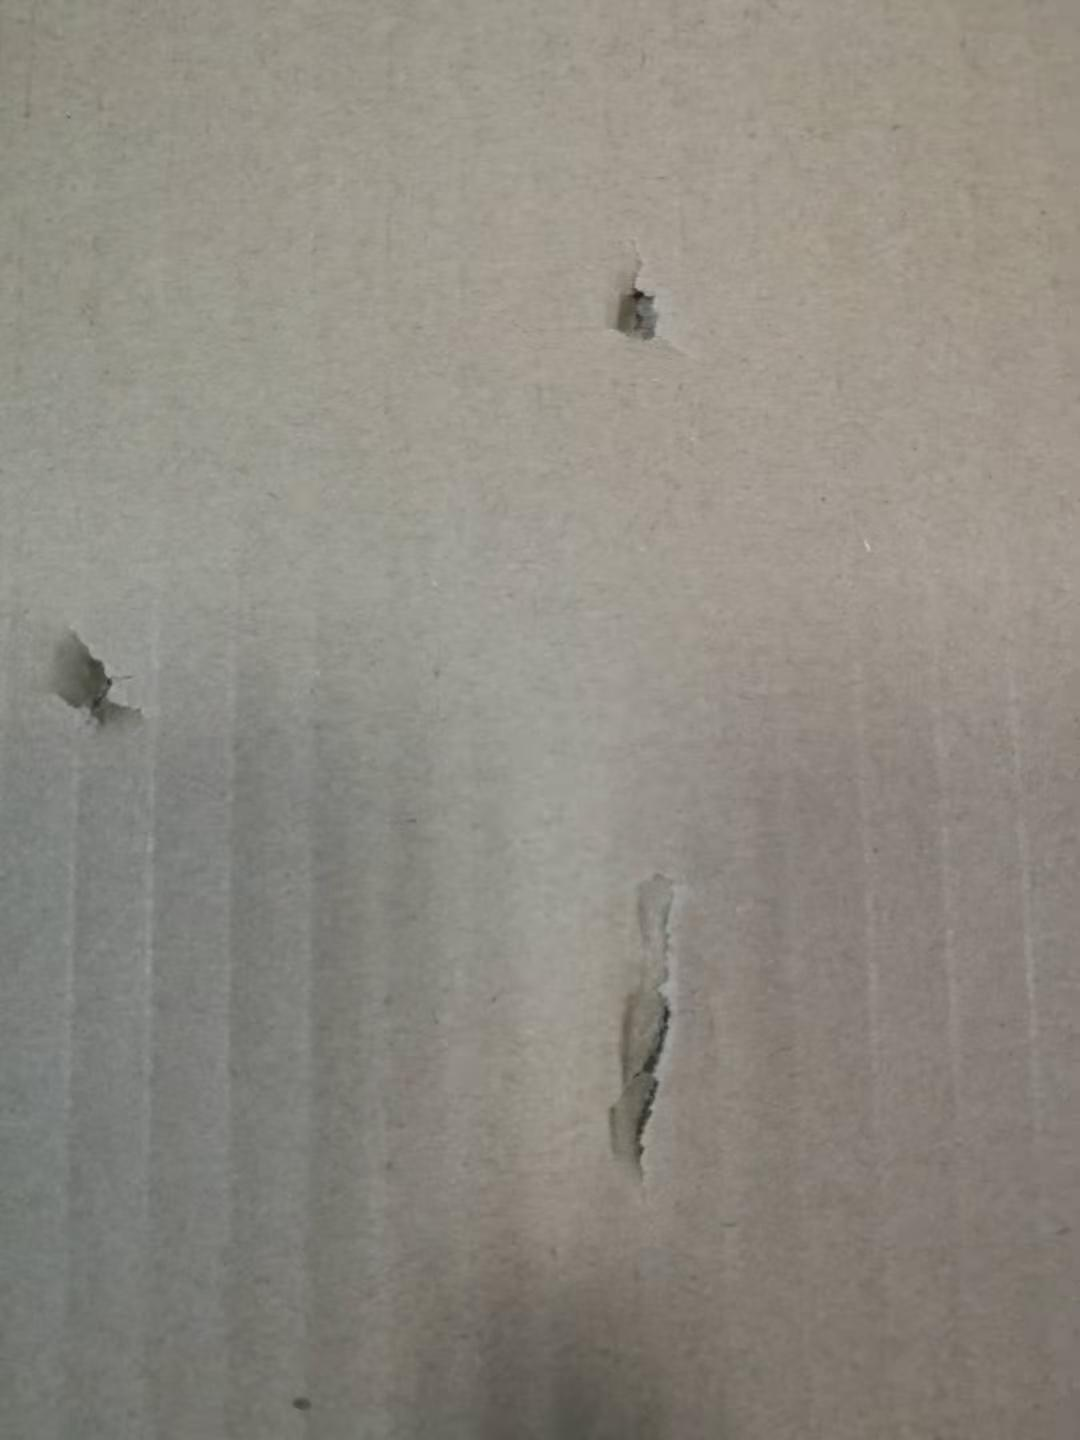defect: (579, 841, 732, 1225), (17, 590, 177, 766), (574, 230, 694, 367)
